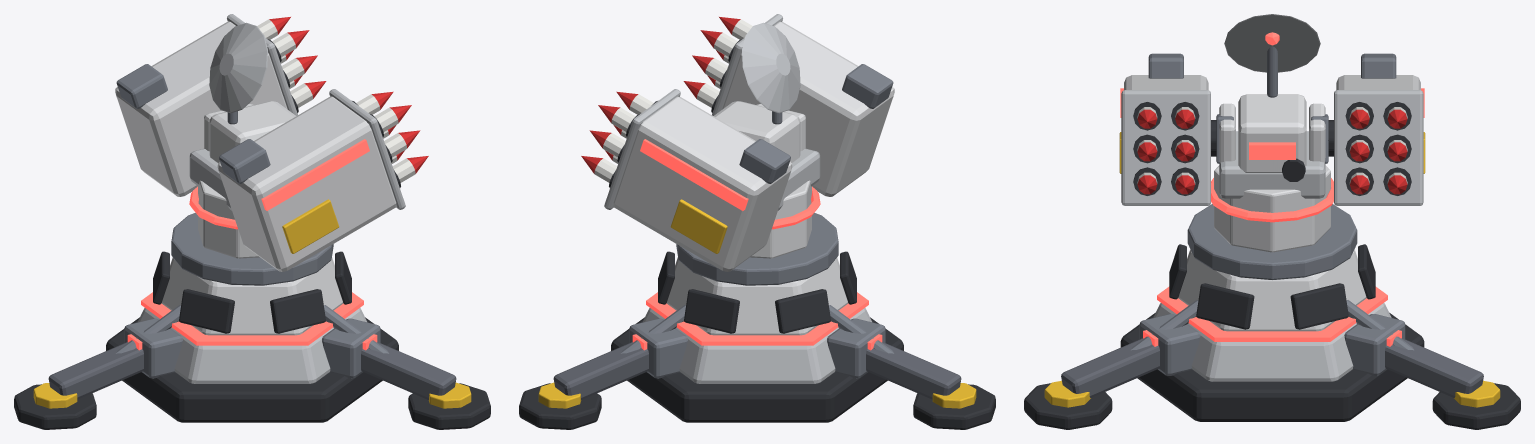
The model's file is torreta_misiles.glb.
The picture shows the model from 3 angles, left to right: view 1: azimuth 30°, elevation 25°; view 2: azimuth 150°, elevation 25°; view 3: azimuth 270°, elevation 25°; orthographic projection. The views are drawn at different scales.
Parts seen in each view (by area): view 1: Base, Barrel, Pivot; view 2: Base, Barrel, Pivot; view 3: Base, Pivot, Barrel.
Boxes of the visible parts, <box> form: Base: <box>14,251,490,429</box>; Barrel: <box>115,14,428,271</box>; Pivot: <box>171,22,333,285</box>; Base: <box>519,251,995,429</box>; Barrel: <box>581,14,894,271</box>; Pivot: <box>676,22,838,285</box>; Base: <box>1024,244,1520,429</box>; Pivot: <box>1187,14,1357,279</box>; Barrel: <box>1119,53,1425,205</box>.
Size of the model in its own units: 3.75 by 3.33 by 4.21.
